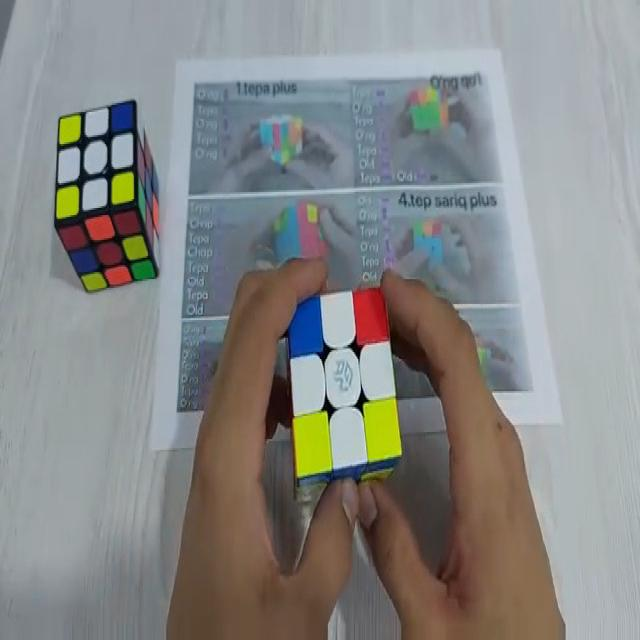Rub: (284, 283, 402, 499), (56, 99, 162, 292)
